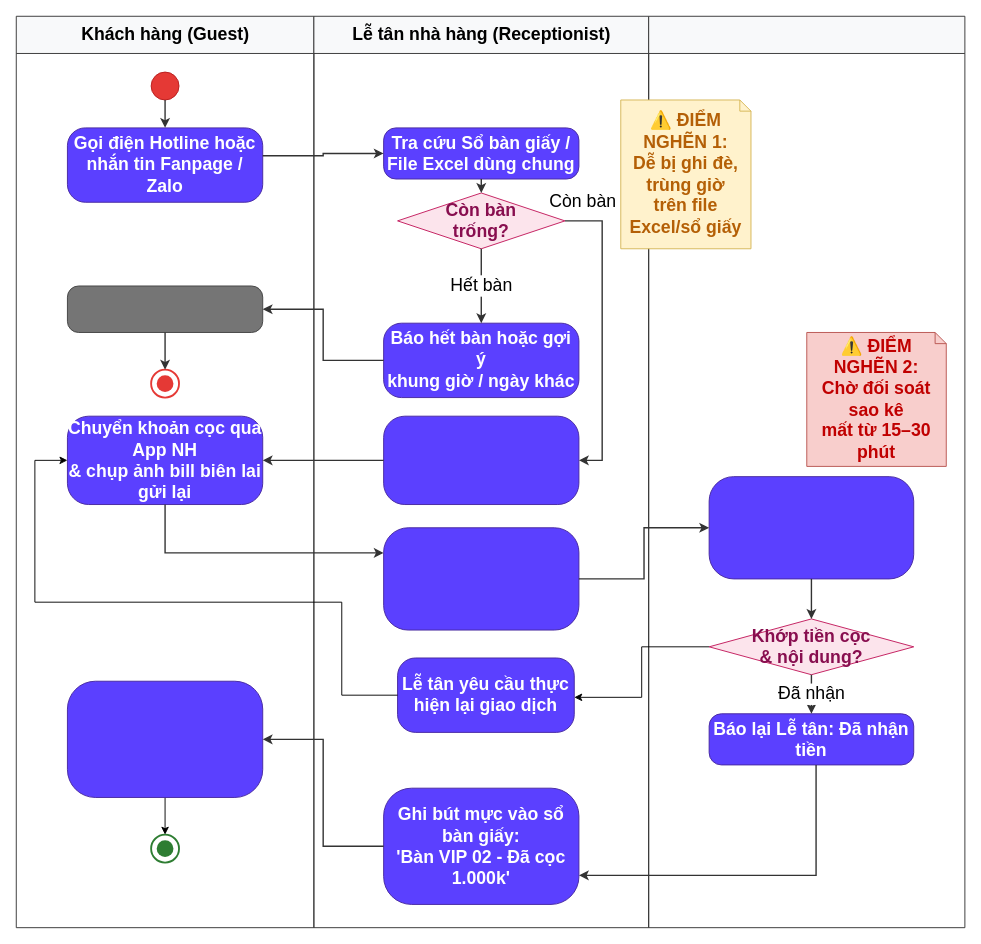
Some shapes in this 981 by 944 pixel diagram are drawn without their labels. Each missing label, with the box of its shape:
Chuyển ảnh bill cho Kế toán đối soát sao kê ngân hàng: (383, 527, 579, 630)
Hủy ý định đặt bàn / Tìm nhà hàng khác: (66, 285, 263, 332)
Kế toán / Quản lý (Cashier/Manager): (648, 15, 965, 928)
Mở App ngân hàng check biến động số dư thủ công (Mất 15-30p): (708, 476, 914, 579)
Nhận tin nhắn nhắn tay: 'Đã nhận cọc & giữ bàn': (66, 680, 263, 797)
Nhắn số tài khoản ngân hàng yêu cầu khách chuyển tiền cọc: (383, 415, 579, 505)
